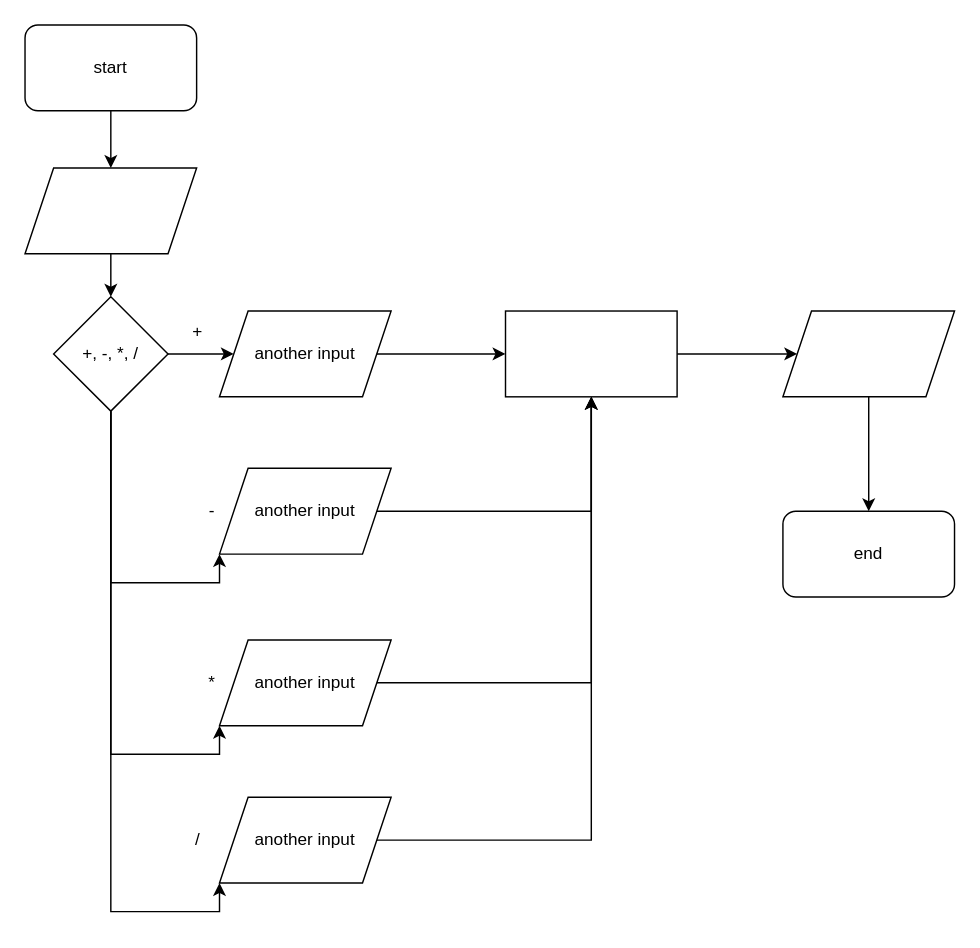
The diagram is 980 pixels wide and 948 high, and some of its shapes have lost their labels. Each missing label, with the centre of its shape:
"input (+, -, *, /) input" goes at (590,353).
"input a number" goes at (110,210).
"output" goes at (868,353).
